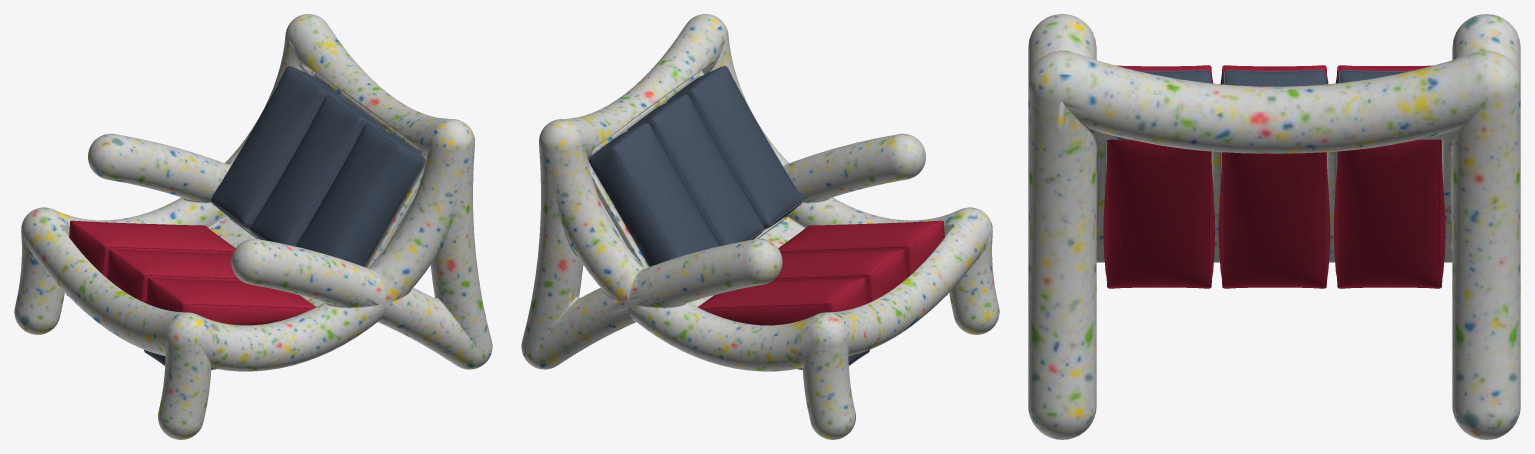
The model's file is chair.glb.
3 renders of one model, left to right at view 1: azimuth 30°, elevation 25°; view 2: azimuth 150°, elevation 25°; view 3: azimuth 270°, elevation 25°, orthographic. The views are drawn at different scales.
Visible parts, largest first — view 1: new chair 5.001, Cube.008, cushion_angle_1.004, frame.002, cushion_1.001; view 2: new chair 5.001, Cube.008, cushion_angle_1.004, frame.002, cushion_1.001; view 3: new chair 5.001, cushion_angle_1.004, cushion_angle_1.011, Cube.008, cushion_1.001.
Boxes of the visible parts, bbox=[...] form: new chair 5.001: bbox=[14, 14, 492, 439]; Cube.008: bbox=[66, 66, 424, 369]; cushion_angle_1.004: bbox=[69, 220, 315, 325]; frame.002: bbox=[229, 70, 425, 267]; cushion_1.001: bbox=[144, 66, 425, 369]; new chair 5.001: bbox=[521, 14, 999, 439]; Cube.008: bbox=[589, 66, 869, 369]; cushion_angle_1.004: bbox=[698, 220, 944, 325]; frame.002: bbox=[588, 70, 784, 267]; cushion_1.001: bbox=[589, 66, 947, 295]; new chair 5.001: bbox=[1028, 14, 1520, 439]; cushion_angle_1.004: bbox=[1103, 65, 1445, 288]; cushion_angle_1.011: bbox=[1218, 152, 1330, 287]; Cube.008: bbox=[1142, 71, 1406, 86]; cushion_1.001: bbox=[1137, 69, 1411, 84].
Bounding box in the file's own units: 1.04 × 0.7586 × 0.9144.
Materials: 5 (5 with a texture image).
